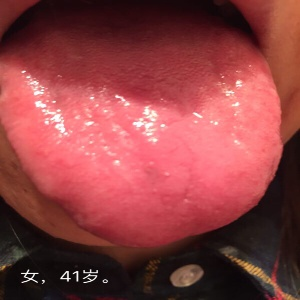st: (0, 51, 291, 237)
